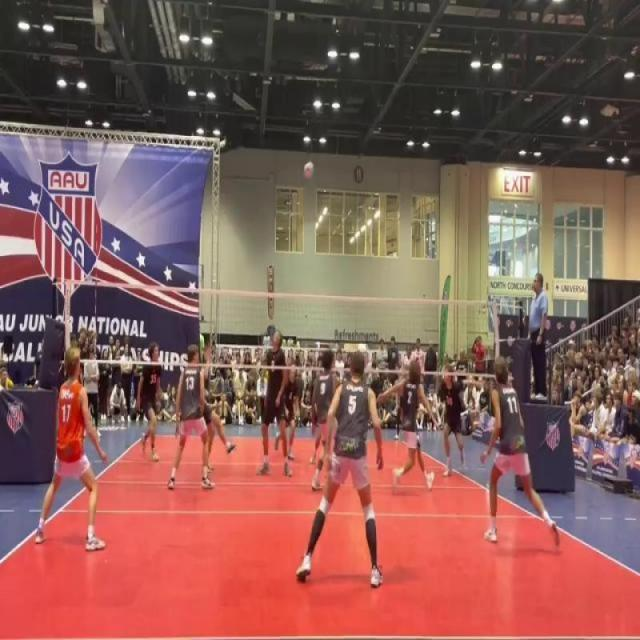volleyball: (302, 160, 316, 180)
